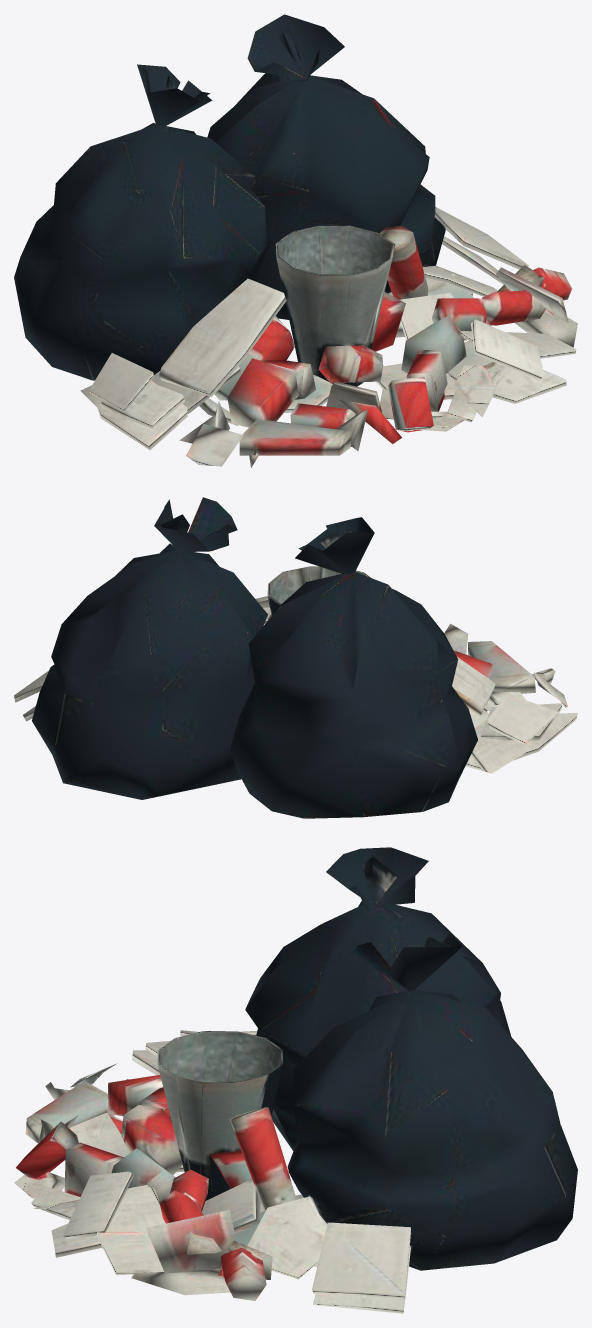
File: haunted-junk-v3.glb
The picture shows the model from 3 angles, top to bottom: view 1: azimuth 30°, elevation 25°; view 2: azimuth 150°, elevation 25°; view 3: azimuth 270°, elevation 25°; orthographic projection. The views are drawn at different scales.
Parts seen in each view (by area): view 1: haunted-junk-v3; view 2: haunted-junk-v3; view 3: haunted-junk-v3.
Part boxes in pixels (x1,y1,x2,y2): haunted-junk-v3: (14,14,577,467); haunted-junk-v3: (14,497,577,818); haunted-junk-v3: (14,847,577,1313).
Size of the model in its own units: 1 by 0.5776 by 0.9821.
1 material, 1 textured.
